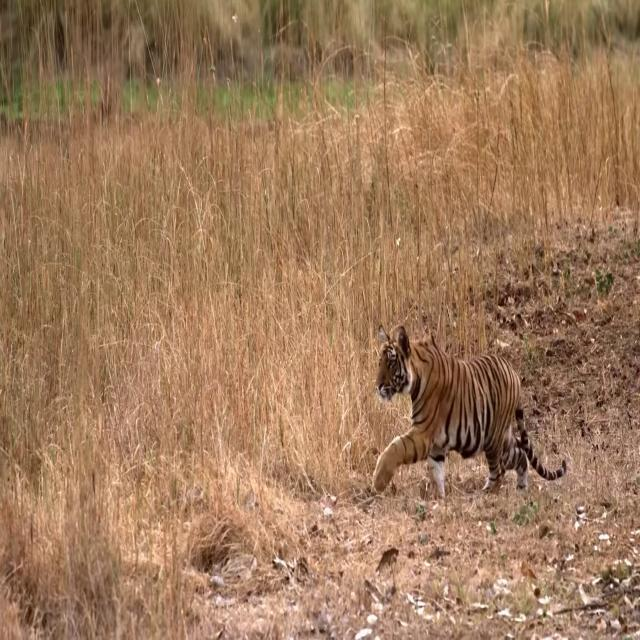tiger: (368, 322, 568, 504)
